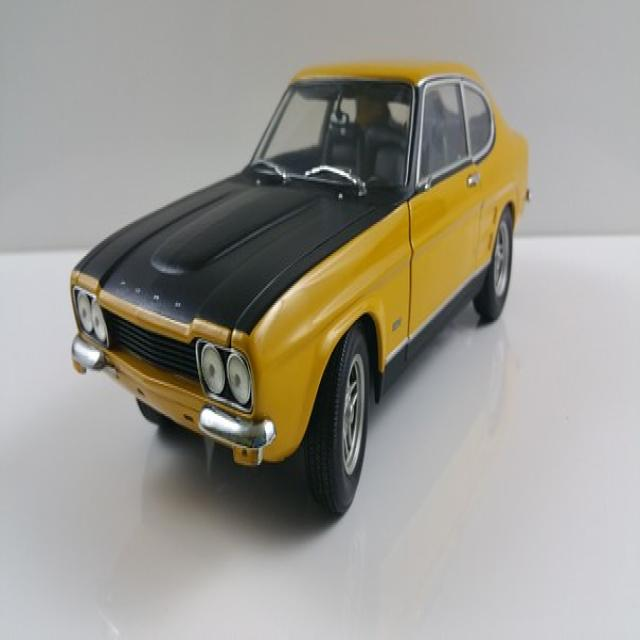Car: (69, 60, 531, 516)
